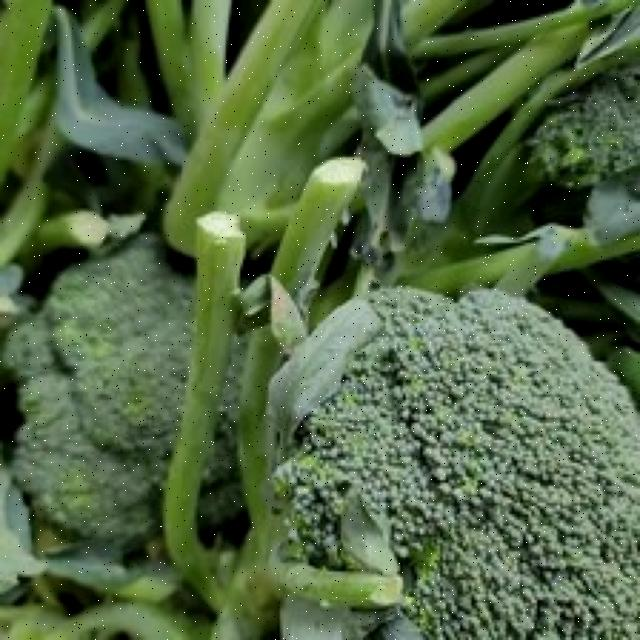Broccoli: (229, 181, 640, 640), (10, 122, 253, 589)
